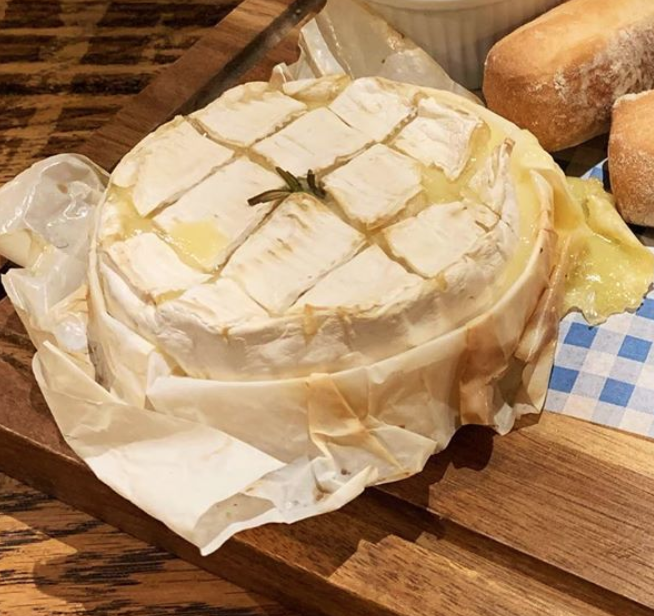camembert: (92, 73, 543, 400)
